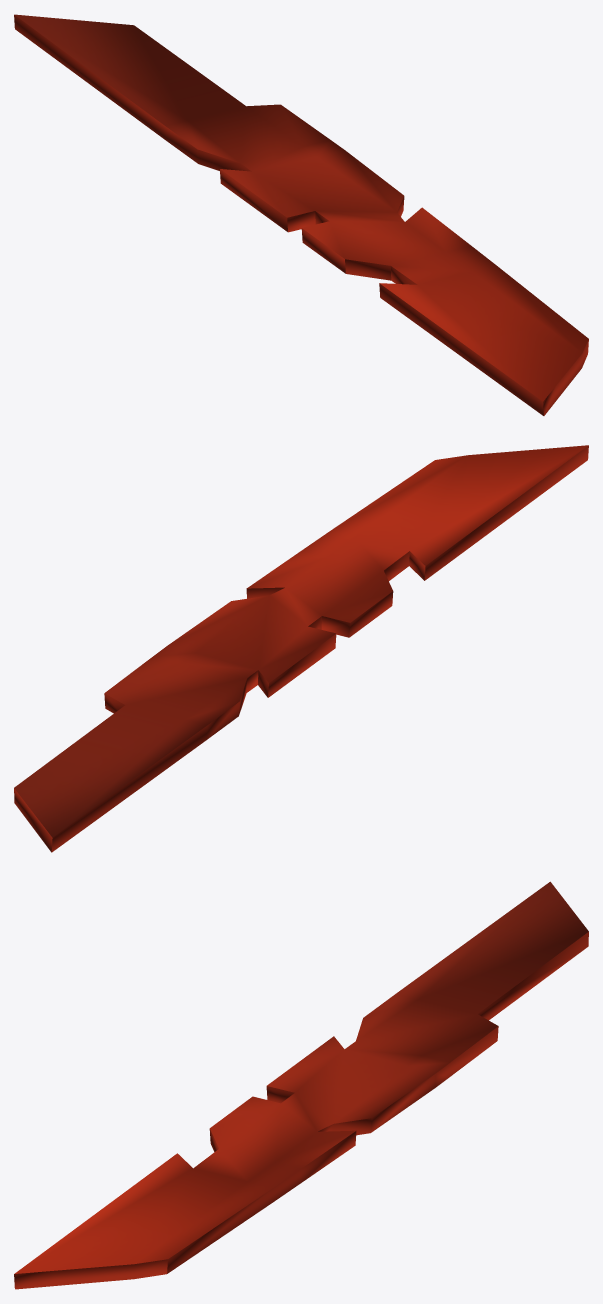
Rendered from Stick V2.fbx.
3 renders of one model, top to bottom at view 1: azimuth 30°, elevation 25°; view 2: azimuth 150°, elevation 25°; view 3: azimuth 330°, elevation 25°, orthographic.
Parts seen in each view (by area): view 1: Stick.005; view 2: Stick.005; view 3: Stick.005.
Boxes of the visible parts, x1,y1,x2,y2 form: Stick.005: (14, 14, 588, 415); Stick.005: (14, 445, 588, 852); Stick.005: (14, 881, 588, 1289).
Bounding box in the file's own units: 31.93 × 4.03 × 259.
